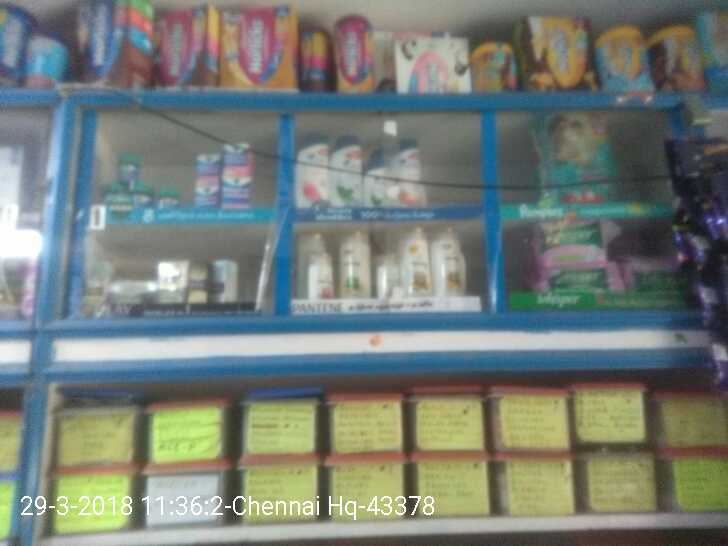vicks: (104, 138, 253, 210)
